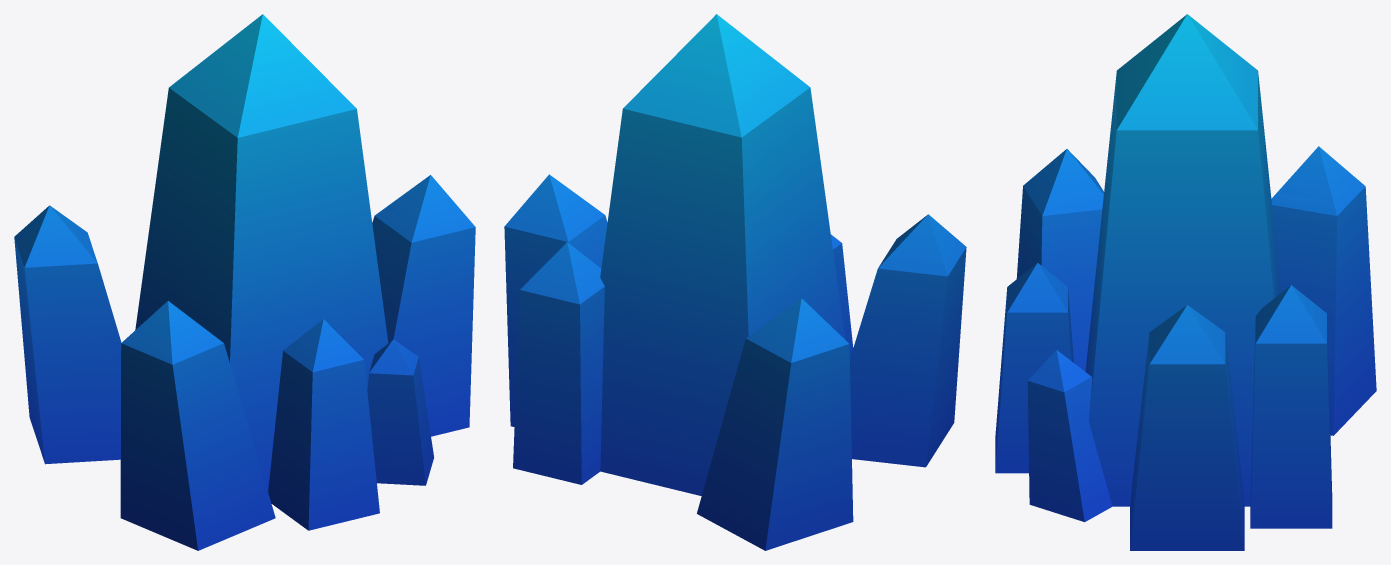
The model's file is crystal_26.glb.
3 renders of one model, left to right at view 1: azimuth 30°, elevation 25°; view 2: azimuth 150°, elevation 25°; view 3: azimuth 270°, elevation 25°, orthographic. The views are drawn at different scales.
Parts seen in each view (by area): view 1: crystal_26; view 2: crystal_26; view 3: crystal_26.
Part boxes in pixels (bbox=[...]): crystal_26: bbox=[14, 14, 475, 550]; crystal_26: bbox=[504, 14, 966, 550]; crystal_26: bbox=[995, 14, 1376, 550].
Size of the model in its own units: 6.39 by 6.99 by 5.4.
1 material, 1 textured.
